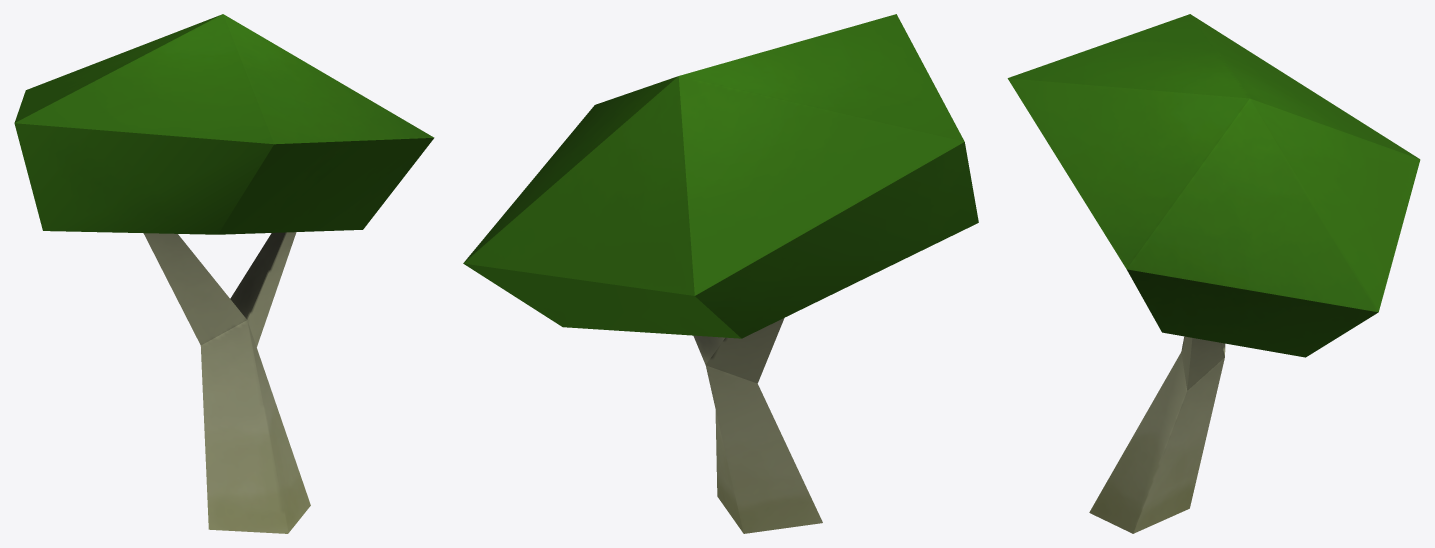
File: Leave_tree_C1_01.FBX
3 renders of one model, left to right at view 1: azimuth 30°, elevation 25°; view 2: azimuth 150°, elevation 25°; view 3: azimuth 270°, elevation 25°, orthographic. The views are drawn at different scales.
Visible parts, largest first — view 1: Leave_tree_C1_01; view 2: Leave_tree_C1_01; view 3: Leave_tree_C1_01.
Part boxes in pixels (x1,y1,x2,y2): Leave_tree_C1_01: (14,14,434,533); Leave_tree_C1_01: (463,14,978,533); Leave_tree_C1_01: (1007,14,1420,533).
Bounding box in the file's own units: 35.02 × 34.6 × 39.18.
